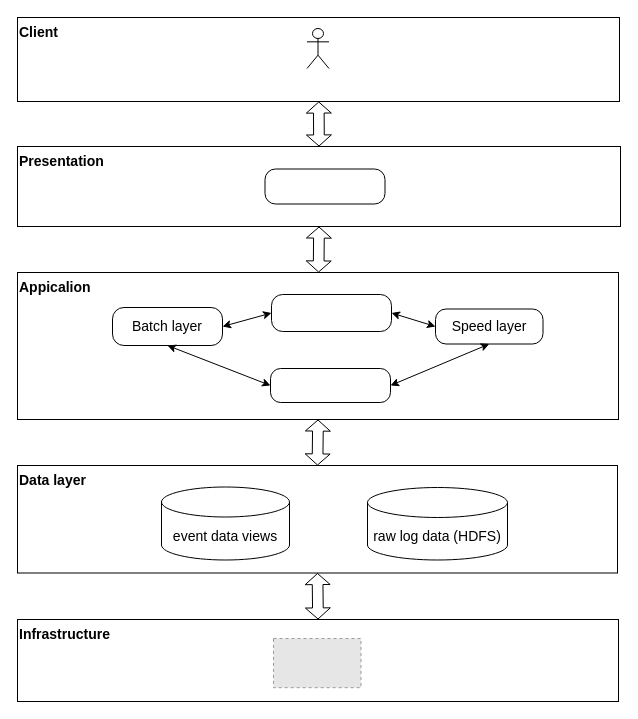
Some shapes in this 638 by 719 pixel diagram are drawn without their labels. Grey dashed boxes stand in for pictures. Here are the shapes that lost their labels. From the top down, the centre of each, then its label:
At point 317,48: "User".
At point 324,186: "Web UI".
At point 331,313: "Serving layer".
At point 330,385: "Data ingestion".
